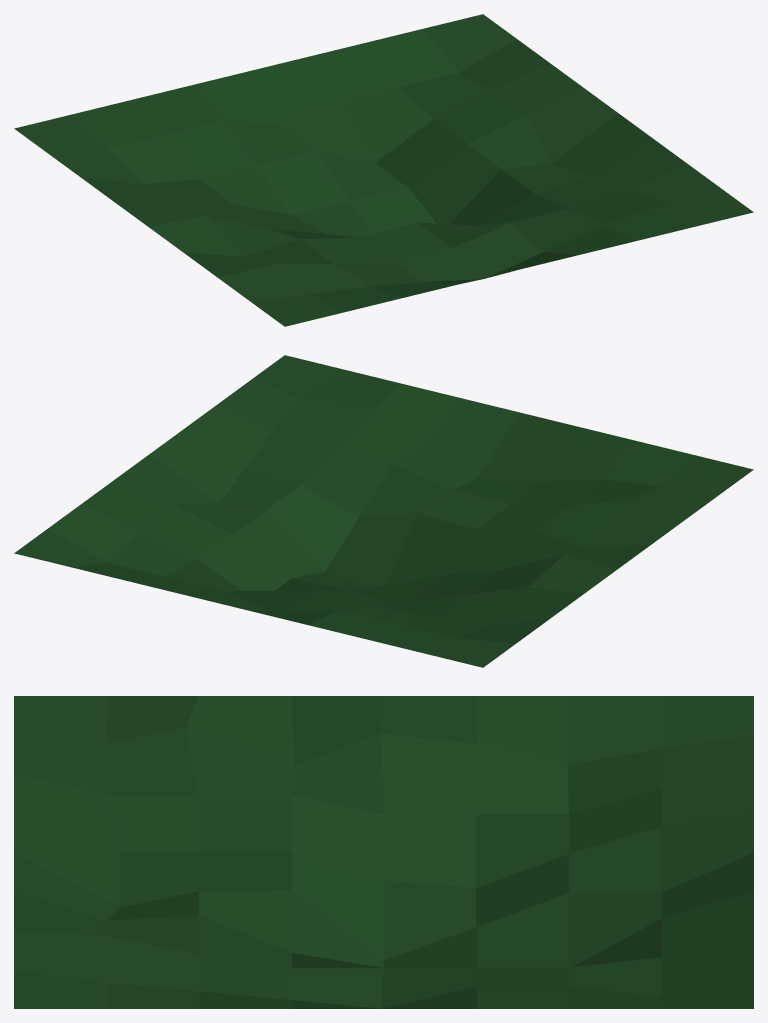
Rendered from Terrain_5_Dark_Green.fbx.
3 renders of one model, top to bottom at view 1: azimuth 30°, elevation 25°; view 2: azimuth 150°, elevation 25°; view 3: azimuth 270°, elevation 25°, orthographic. The views are drawn at different scales.
Parts seen in each view (by area): view 1: Terrain_5_Dark_Green; view 2: Terrain_5_Dark_Green; view 3: Terrain_5_Dark_Green.
Boxes of the visible parts, left/top/right/bottom form: Terrain_5_Dark_Green: left=14, top=14, right=753, bottom=326; Terrain_5_Dark_Green: left=14, top=355, right=753, bottom=667; Terrain_5_Dark_Green: left=14, top=696, right=753, bottom=1008.
Bounding box in the file's own units: 3000 × 506 × 3000.
